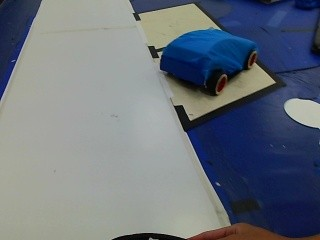car: (156, 25, 266, 101)
